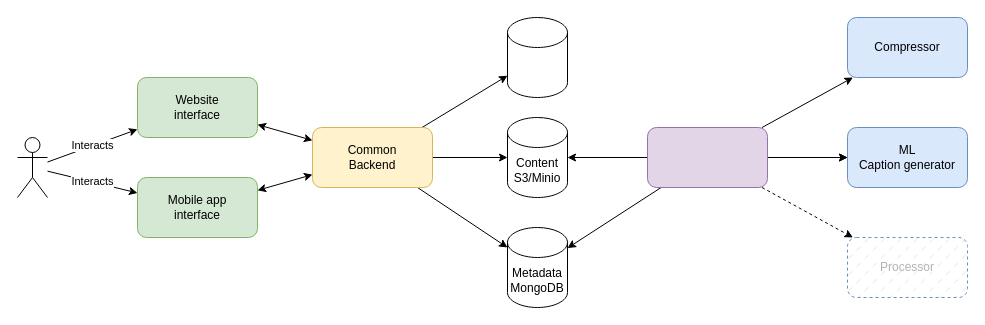
The diagram is 985 pixels wide and 325 high, and some of its shapes have lost their labels. The centre of each missing label's shape, as x and y in pixels:
Auth MongoDB: the point at 537,57
Processing backend: the point at 707,157
User: the point at 32,167
